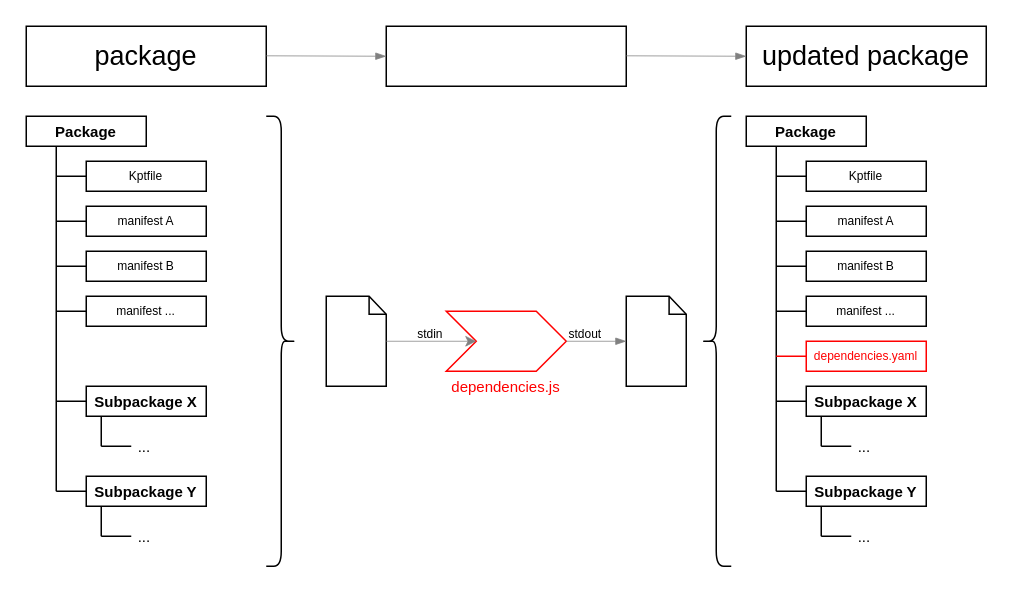
Image size: 1013x593. Some labels were removed from this diagram. The centre of each missing label's shape, as x and y in pixels:
kpt function: point (505, 55)
original ResourceList: point (355, 340)
updated ResourceList: point (655, 340)
